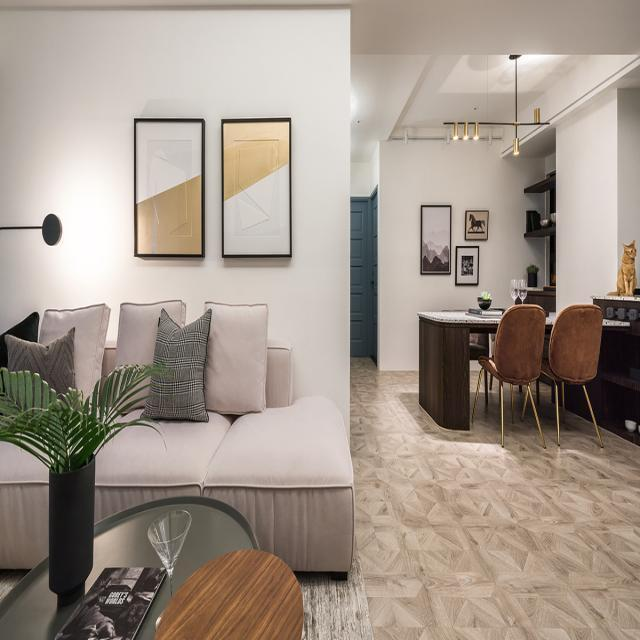table: (410, 277, 630, 467)
